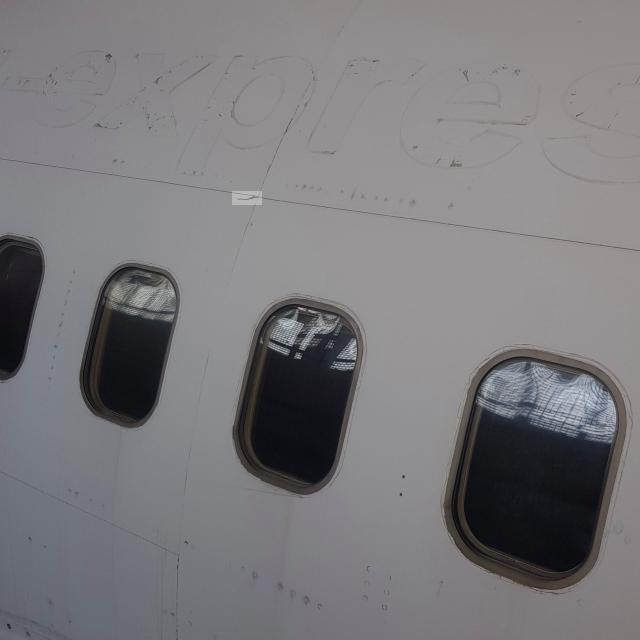crack: (233, 192, 263, 206)
